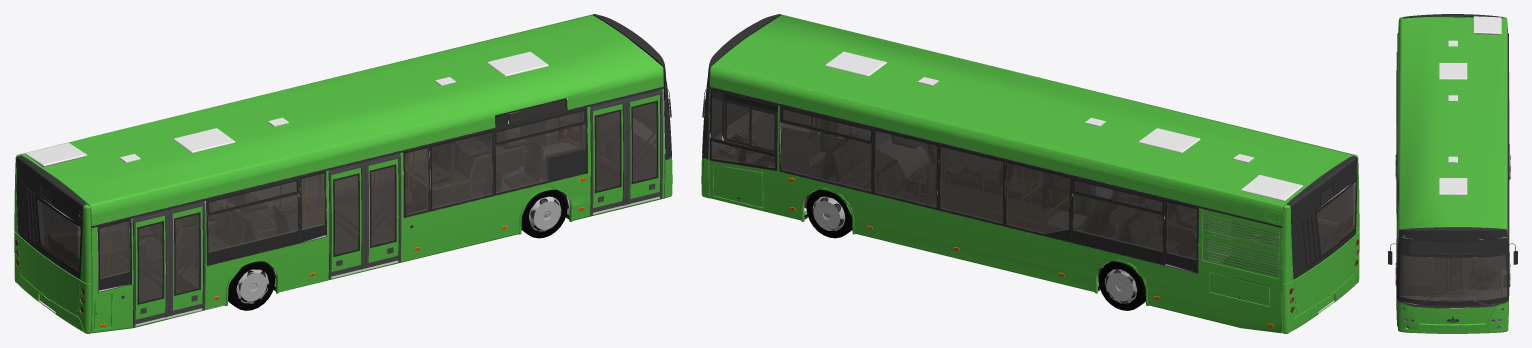
Rendered from maz203_tnikita.glb.
3 views of the same model, side by side, from view 1: azimuth 30°, elevation 25°; view 2: azimuth 150°, elevation 25°; view 3: azimuth 270°, elevation 25° (orthographic). The views are drawn at different scales.
Visible parts, largest first — view 1: Material2 (×4), Material3 (×2); view 2: Material2 (×4), Material3; view 3: Material2 (×4), Material3.
Part boxes in pixels (x1=…): Material2 (×4): x1=14, y1=14, x2=672, y2=333; Material3 (×2): x1=41, y1=100, x2=565, y2=303; Material2 (×4): x1=701, y1=14, x2=1359, y2=333; Material3: x1=812, y1=196, x2=1137, y2=303; Material2 (×4): x1=1388, y1=14, x2=1517, y2=333; Material3: x1=1410, y1=241, x2=1495, y2=252.
Size of the model in its own units: 477 by 112 by 119.
Materials: 21 (21 with a texture image).
